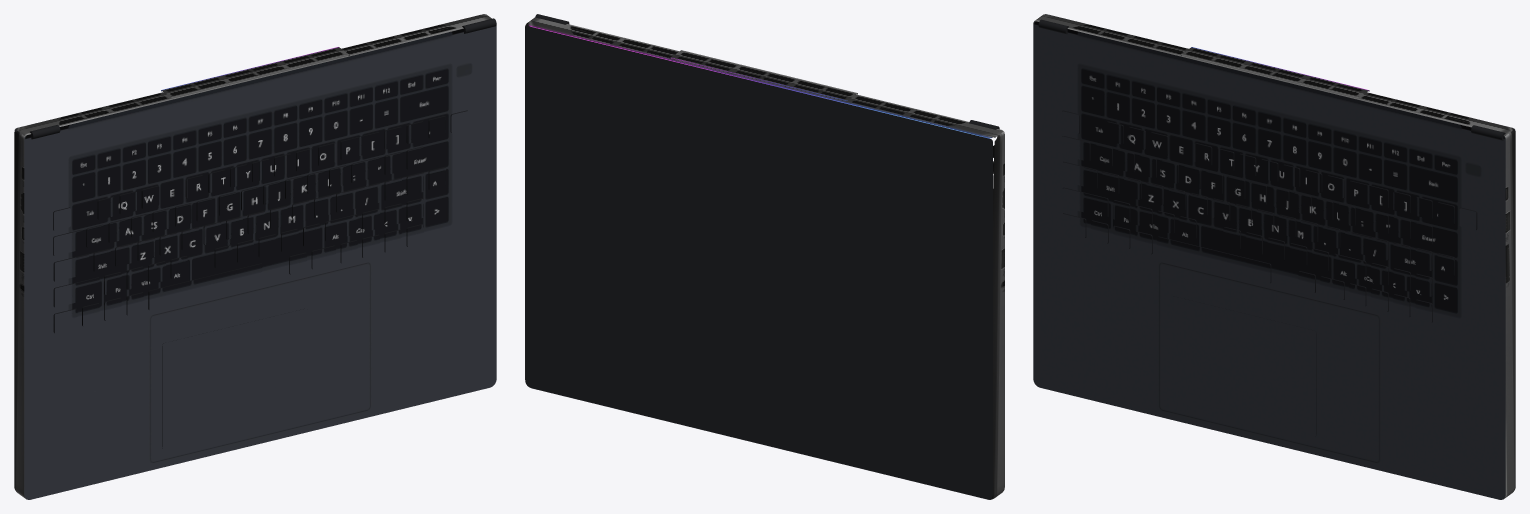
The model's file is body.obj.
The picture shows the model from 3 angles, left to right: view 1: azimuth 30°, elevation 25°; view 2: azimuth 150°, elevation 25°; view 3: azimuth 330°, elevation 25°; orthographic projection.
Parts seen in each view (by area): view 1: deck, keys.001, base.002, keys, base.003, hinge; view 2: base.004, base.002, base.003; view 3: deck, keys.001, base.002, base.001, keys, hinge.
Boxes of the visible parts, x1=… form: deck: x1=24, y1=25, x2=496, y2=499; keys.001: x1=54, y1=111, x2=468, y2=333; base.002: x1=16, y1=14, x2=491, y2=136; keys: x1=53, y1=110, x2=467, y2=333; base.003: x1=14, y1=131, x2=25, y2=498; hinge: x1=30, y1=18, x2=496, y2=139; base.004: x1=525, y1=26, x2=992, y2=499; base.002: x1=527, y1=17, x2=1003, y2=138; base.003: x1=991, y1=131, x2=1004, y2=498; deck: x1=1033, y1=21, x2=1505, y2=499; keys.001: x1=1062, y1=111, x2=1476, y2=322; base.002: x1=1034, y1=14, x2=1512, y2=136; base.001: x1=1504, y1=130, x2=1515, y2=498; keys: x1=1062, y1=110, x2=1477, y2=322; hinge: x1=1038, y1=19, x2=1505, y2=140.
Size of the model in its own units: 396 by 294 by 18.65.
